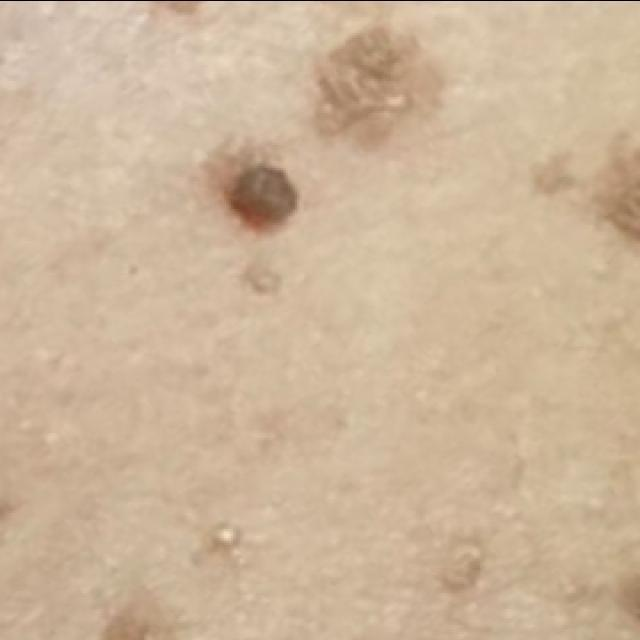wart: (311, 13, 443, 148), (514, 116, 640, 254), (226, 155, 297, 231), (73, 610, 178, 640), (142, 0, 215, 16)
